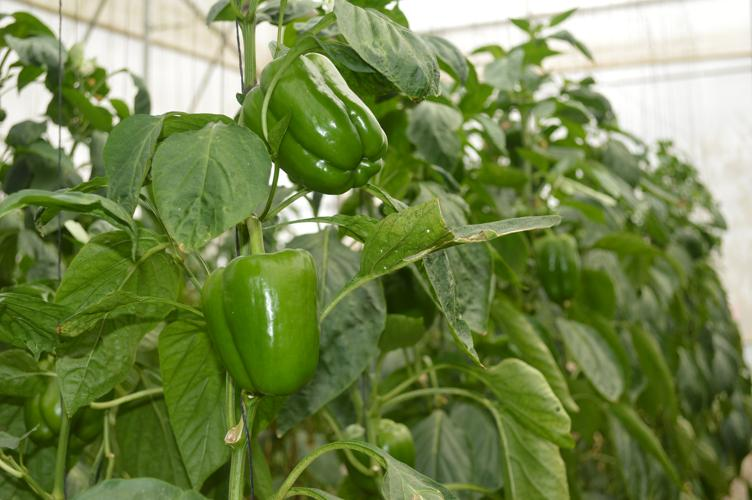BellPepper: (238, 56, 391, 198), (200, 248, 333, 402), (328, 415, 424, 493), (17, 380, 105, 457)
